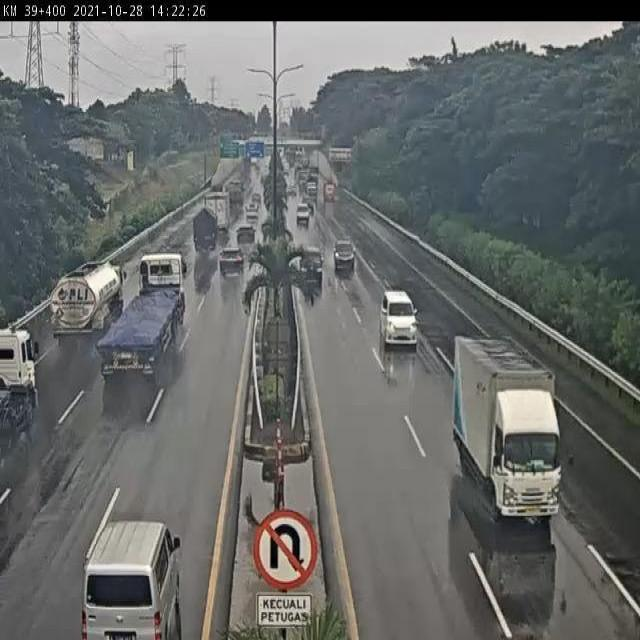car: (218, 245, 245, 279), (301, 243, 324, 281), (236, 222, 256, 246)
truck-l-: (205, 191, 232, 233)
truck-m-: (50, 261, 127, 344), (193, 208, 218, 255)
truck-s-: (452, 332, 561, 523)
truck-xl-: (95, 251, 186, 381)
